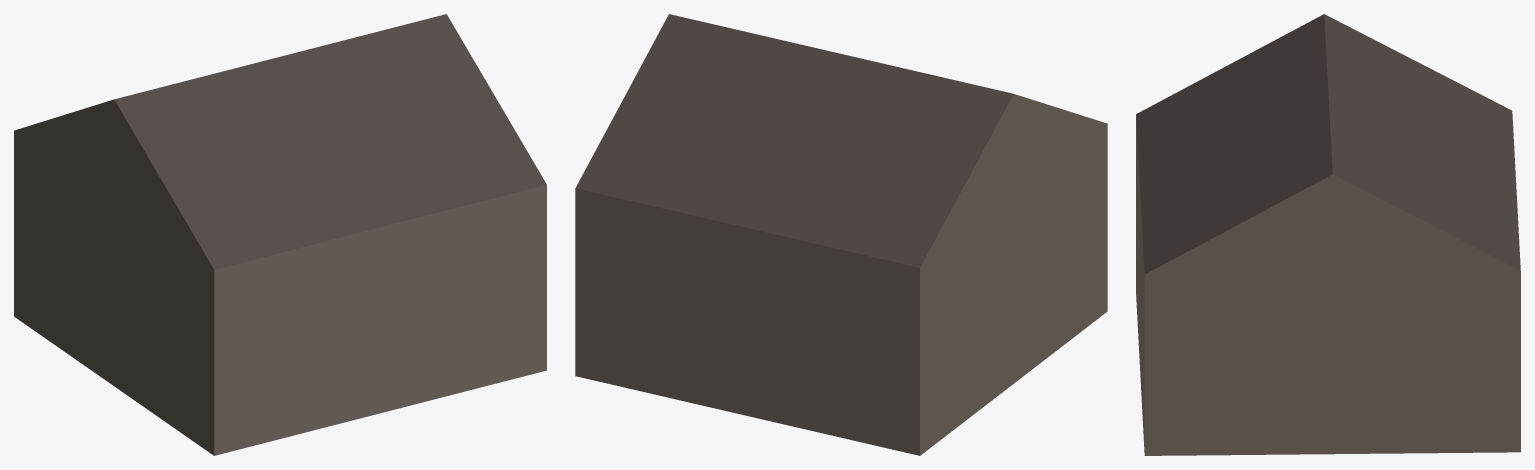
3 renders of one model, left to right at view 1: azimuth 30°, elevation 25°; view 2: azimuth 150°, elevation 25°; view 3: azimuth 270°, elevation 25°, orthographic. The views are drawn at different scales.
Parts seen in each view (by area): view 1: HP-w859424246; view 2: HP-w859424246; view 3: HP-w859424246.
Part boxes in pixels (x1,y1,x2,y2): HP-w859424246: [14, 14, 546, 455]; HP-w859424246: [575, 14, 1107, 455]; HP-w859424246: [1136, 14, 1520, 455].
Bounding box in the file's own units: 11.62 × 9.26 × 11.53.
